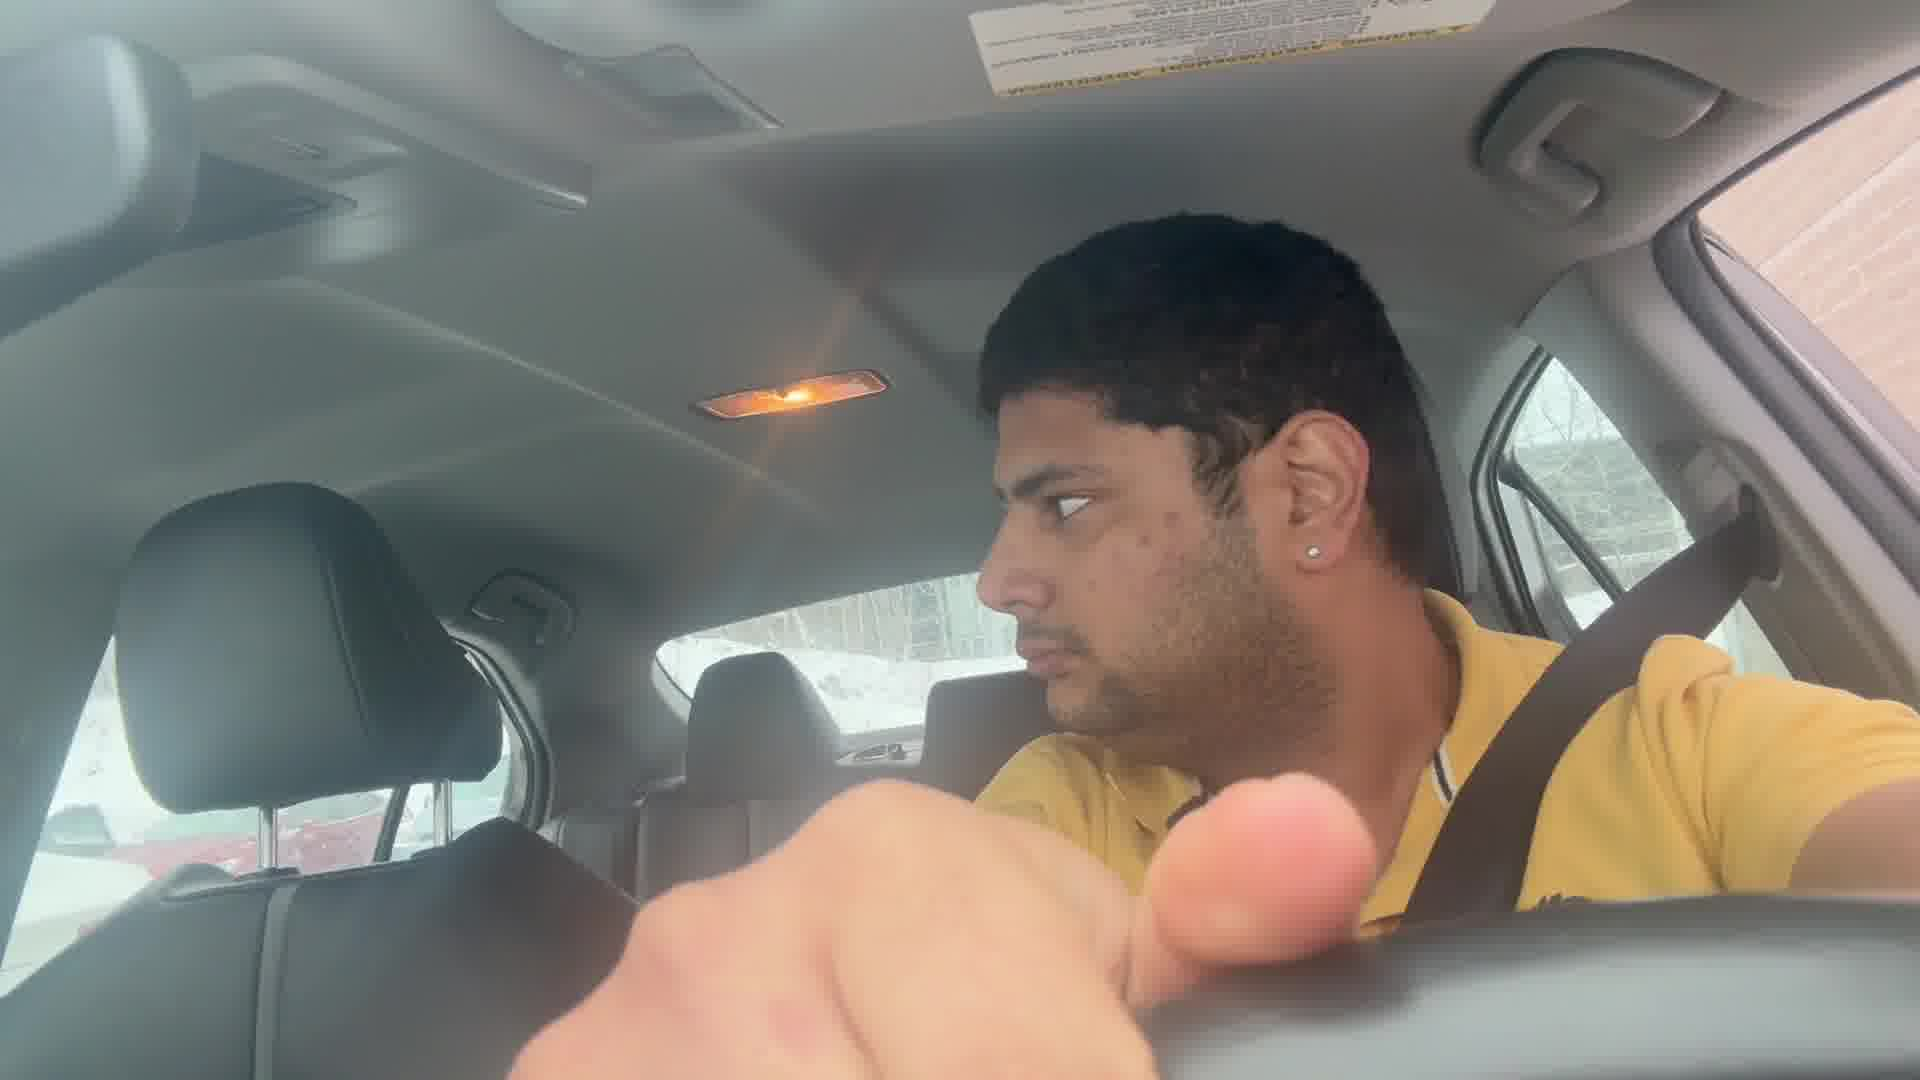inattentive: (1, 228, 1428, 844)
seatbelt: (1399, 473, 1836, 944)
